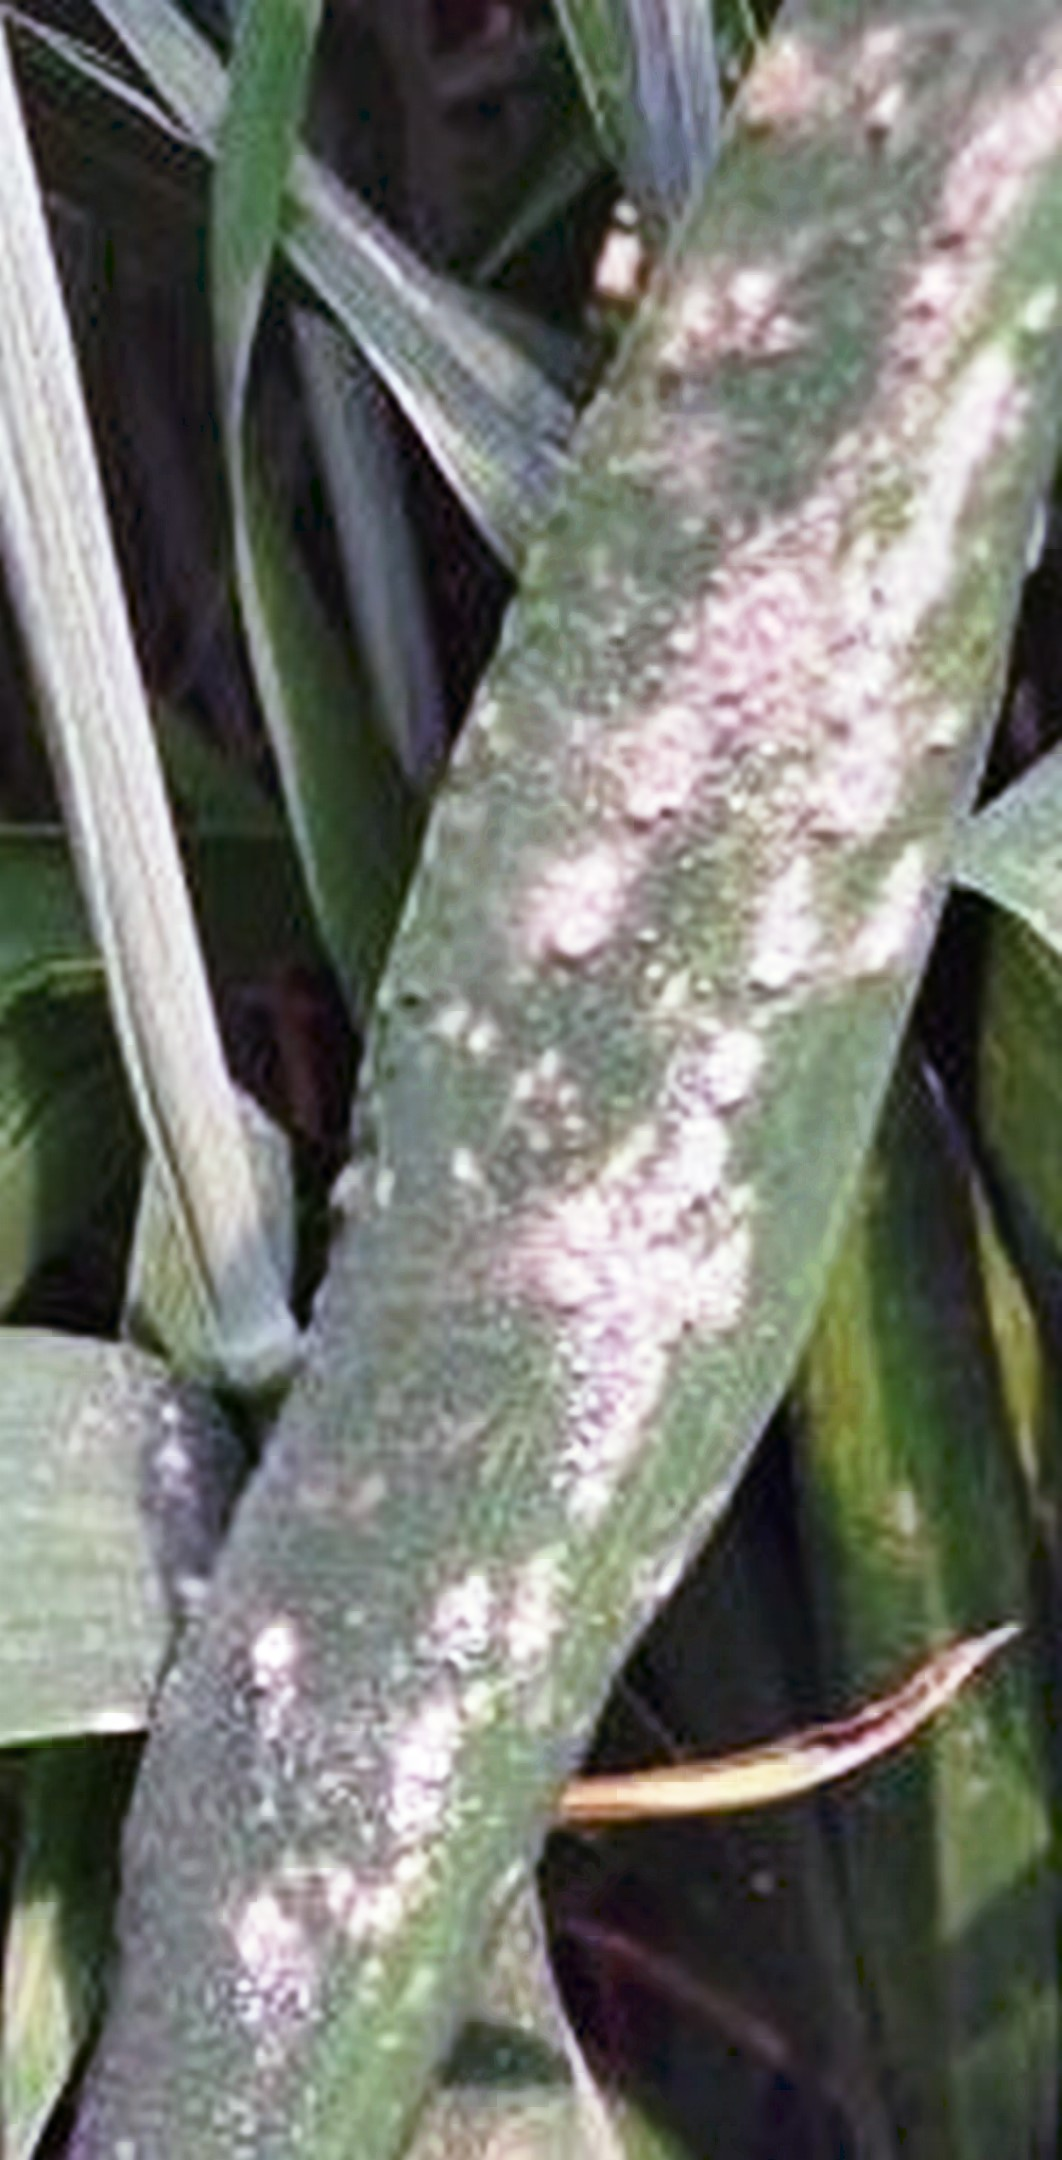Powdery Mildew: (293, 238, 1062, 1922)
